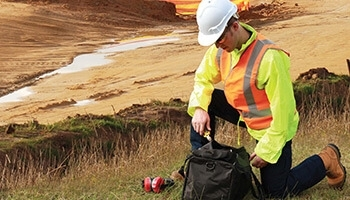epi: (185, 1, 350, 188)
